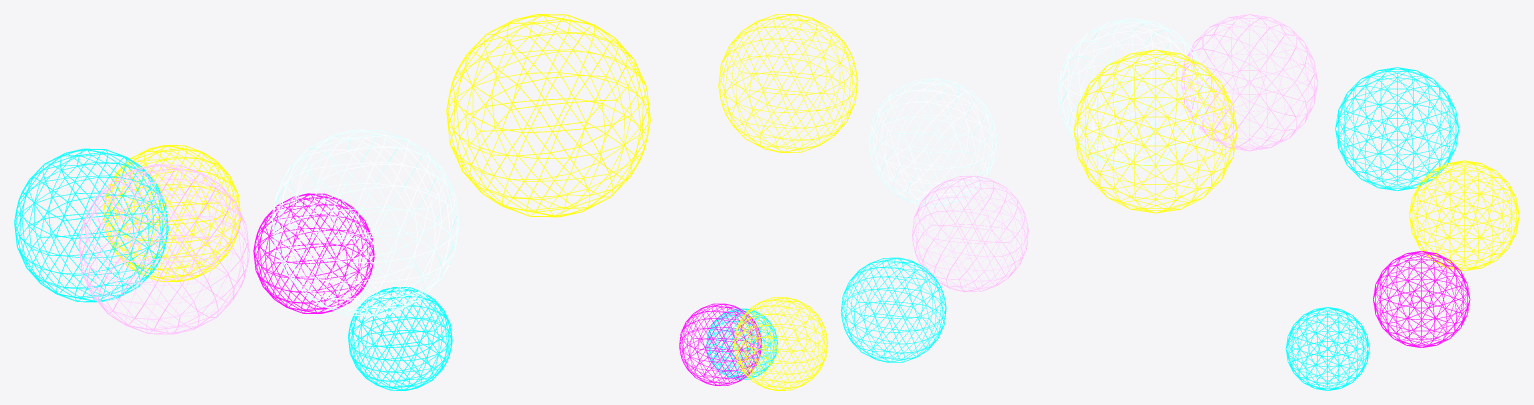
The model's file is dao_cluster.glb.
The picture shows the model from 3 angles, left to right: view 1: azimuth 30°, elevation 25°; view 2: azimuth 150°, elevation 25°; view 3: azimuth 270°, elevation 25°; orthographic projection. The views are drawn at different scales.
Visible parts, largest first — view 1: DAO_Dome_6, DAO_Dome_5, DAO_Dome_4, DAO_Dome_3, DAO_Dome_2, DAO_Dome_1, DAO_Dome_0; view 2: DAO_Dome_6, DAO_Dome_5, DAO_Dome_4, DAO_Dome_3, DAO_Dome_2, DAO_Dome_1, DAO_Dome_0; view 3: DAO_Dome_6, DAO_Dome_5, DAO_Dome_4, DAO_Dome_3, DAO_Dome_2, DAO_Dome_1, DAO_Dome_0.
Boxes of the visible parts, x1,y1,x2,y2 form: DAO_Dome_6: (446,14,650,217); DAO_Dome_5: (271,129,459,316); DAO_Dome_4: (78,164,249,334); DAO_Dome_3: (14,148,168,302); DAO_Dome_2: (103,145,240,281); DAO_Dome_1: (253,193,374,313); DAO_Dome_0: (348,287,452,390); DAO_Dome_6: (718,14,858,152); DAO_Dome_5: (869,78,997,206); DAO_Dome_4: (911,175,1028,291); DAO_Dome_3: (841,257,946,362); DAO_Dome_2: (734,297,827,390); DAO_Dome_1: (679,303,761,385); DAO_Dome_0: (706,308,777,379); DAO_Dome_6: (1073,49,1237,213); DAO_Dome_5: (1057,18,1207,168); DAO_Dome_4: (1181,14,1318,151); DAO_Dome_3: (1335,67,1459,190); DAO_Dome_2: (1409,160,1519,270); DAO_Dome_1: (1373,251,1470,347); DAO_Dome_0: (1285,307,1369,390).
Bounding box in the file's own units: 27 × 22.87 × 27.73.
